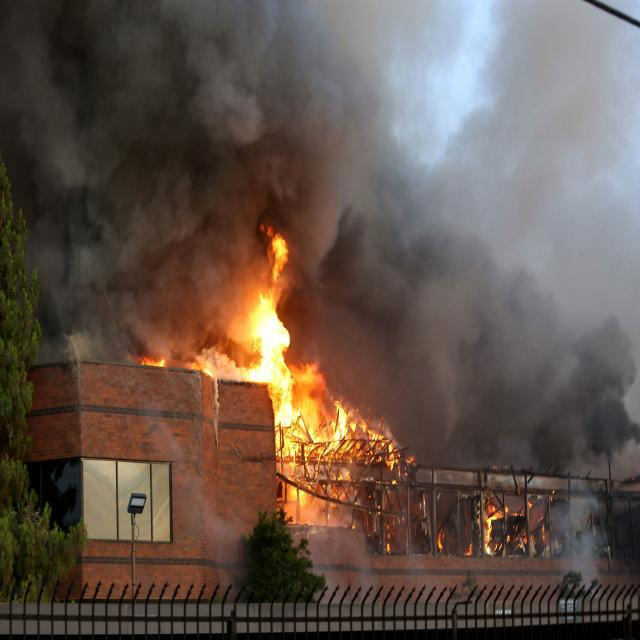Fire: (268, 364, 402, 509), (232, 217, 292, 383), (486, 500, 526, 554), (530, 516, 546, 546), (136, 353, 166, 368), (384, 521, 396, 555), (190, 362, 214, 378), (436, 525, 446, 557), (406, 454, 418, 477), (289, 519, 316, 526), (463, 540, 474, 556), (493, 464, 508, 472), (330, 500, 337, 516), (347, 520, 356, 530), (528, 500, 536, 510), (550, 490, 554, 501), (378, 504, 380, 518)
Smoke: (404, 0, 640, 474), (0, 0, 142, 367), (292, 0, 402, 362), (142, 0, 254, 353), (252, 0, 292, 218), (552, 478, 603, 598), (434, 473, 552, 491)
